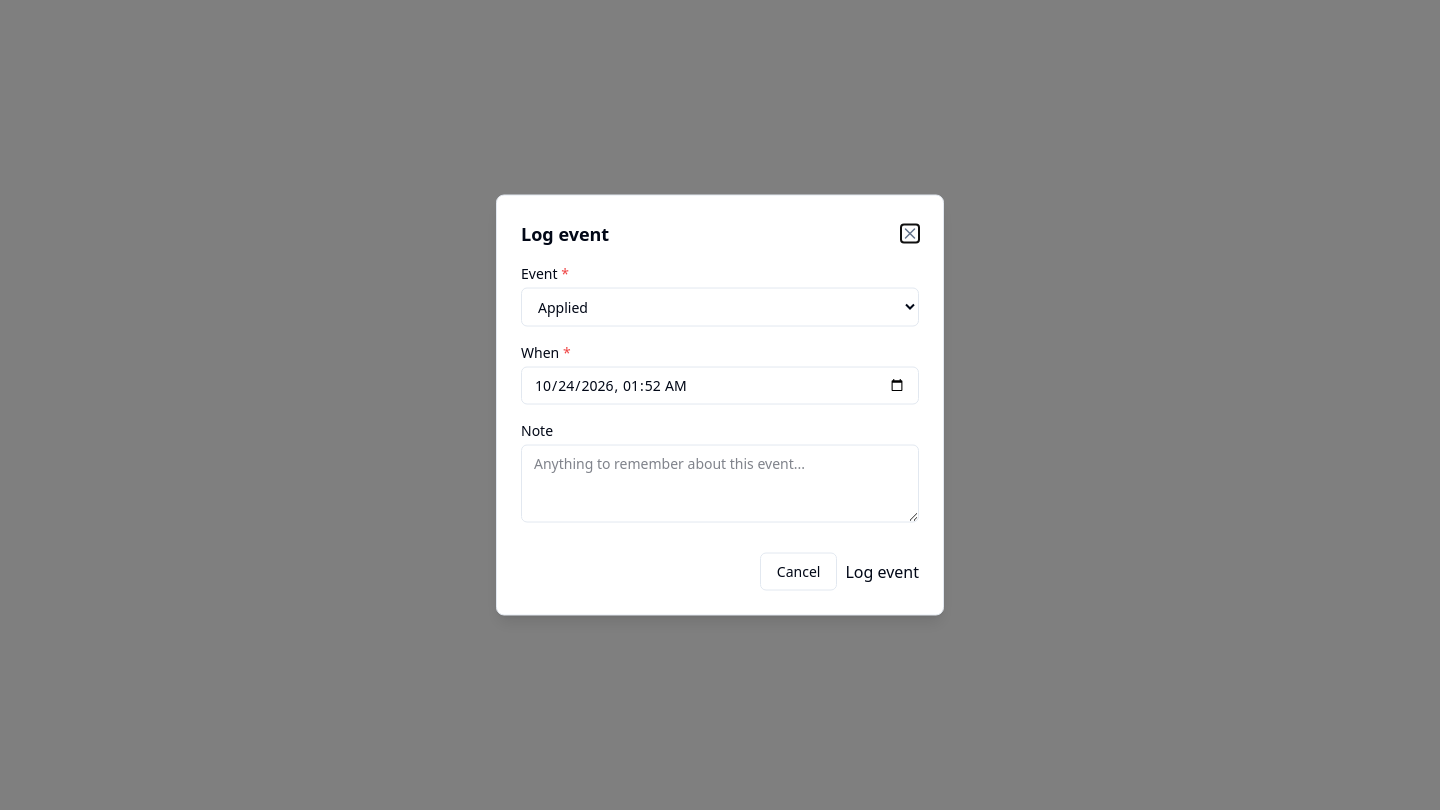
Scenario: LogEventDialog — interview_details › rejects a duration outside the 1..1440 range
Select "Interview completed" in the dropdown labelled "Event *" at (720, 307), box left=521, top=288, right=919, bottom=326
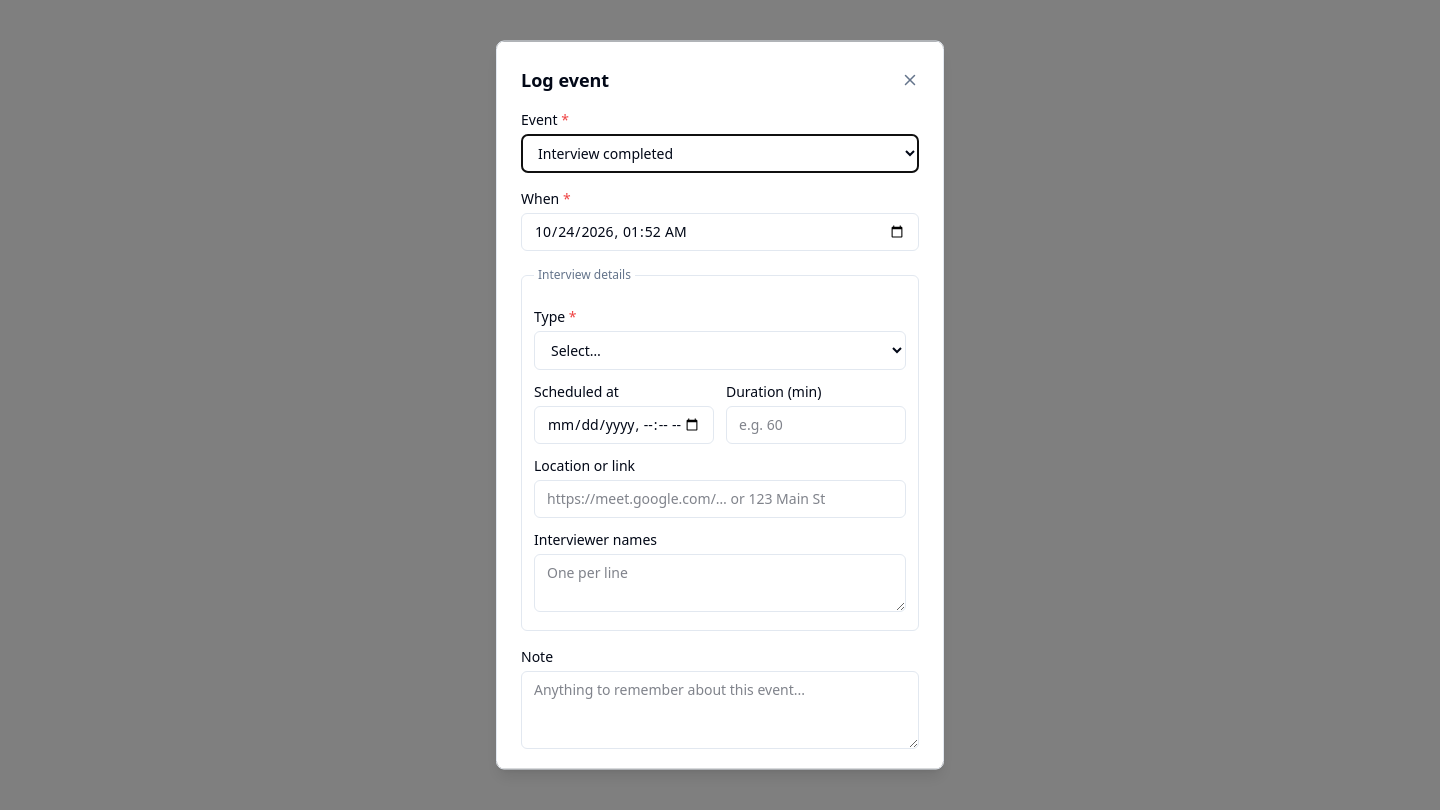
Select "On-site" in the dropdown labelled "Type *" at (720, 350), box left=534, top=330, right=906, bottom=370
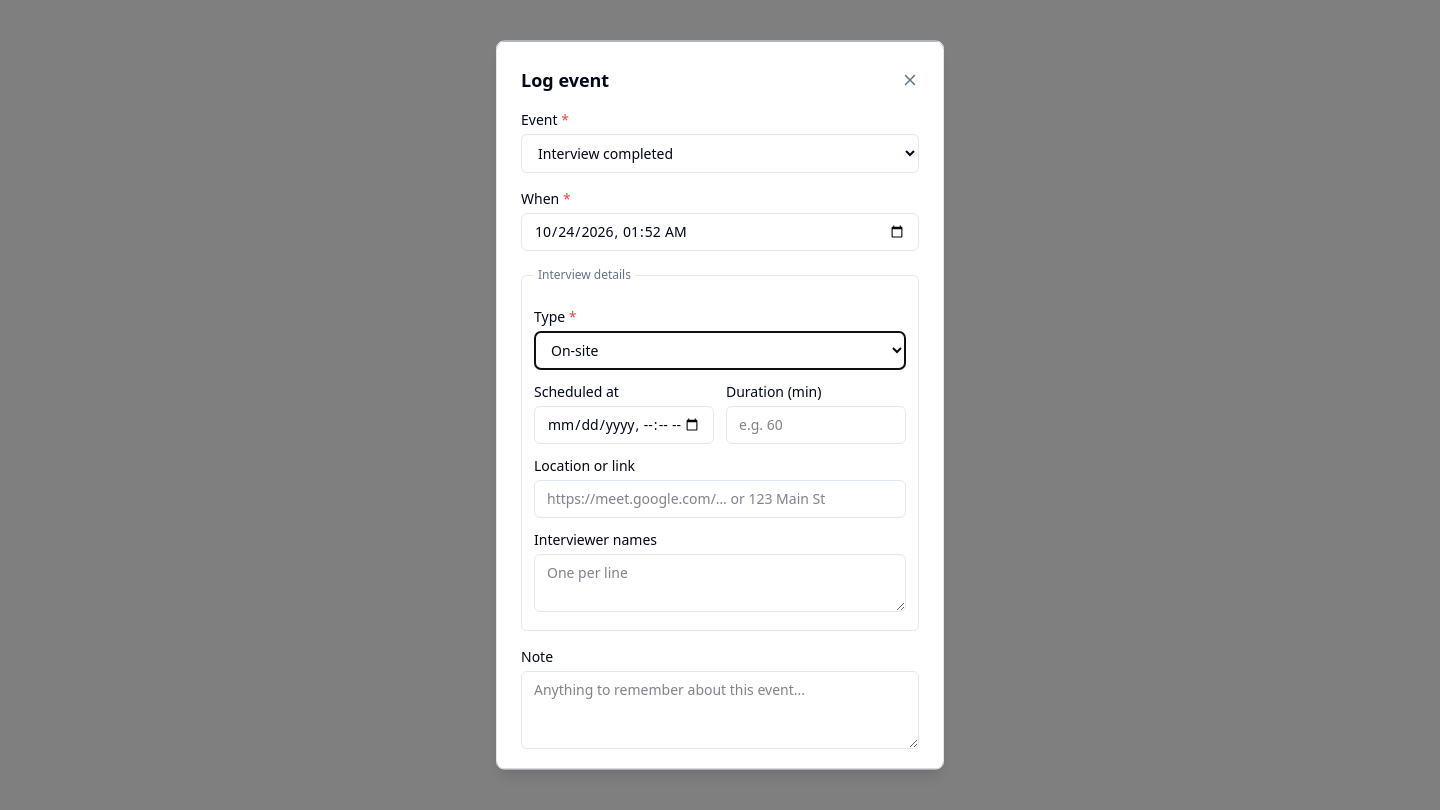
Type "9999" into the number field labelled "Duration (min)" at (816, 424), box left=726, top=406, right=906, bottom=444
(page scrolled)
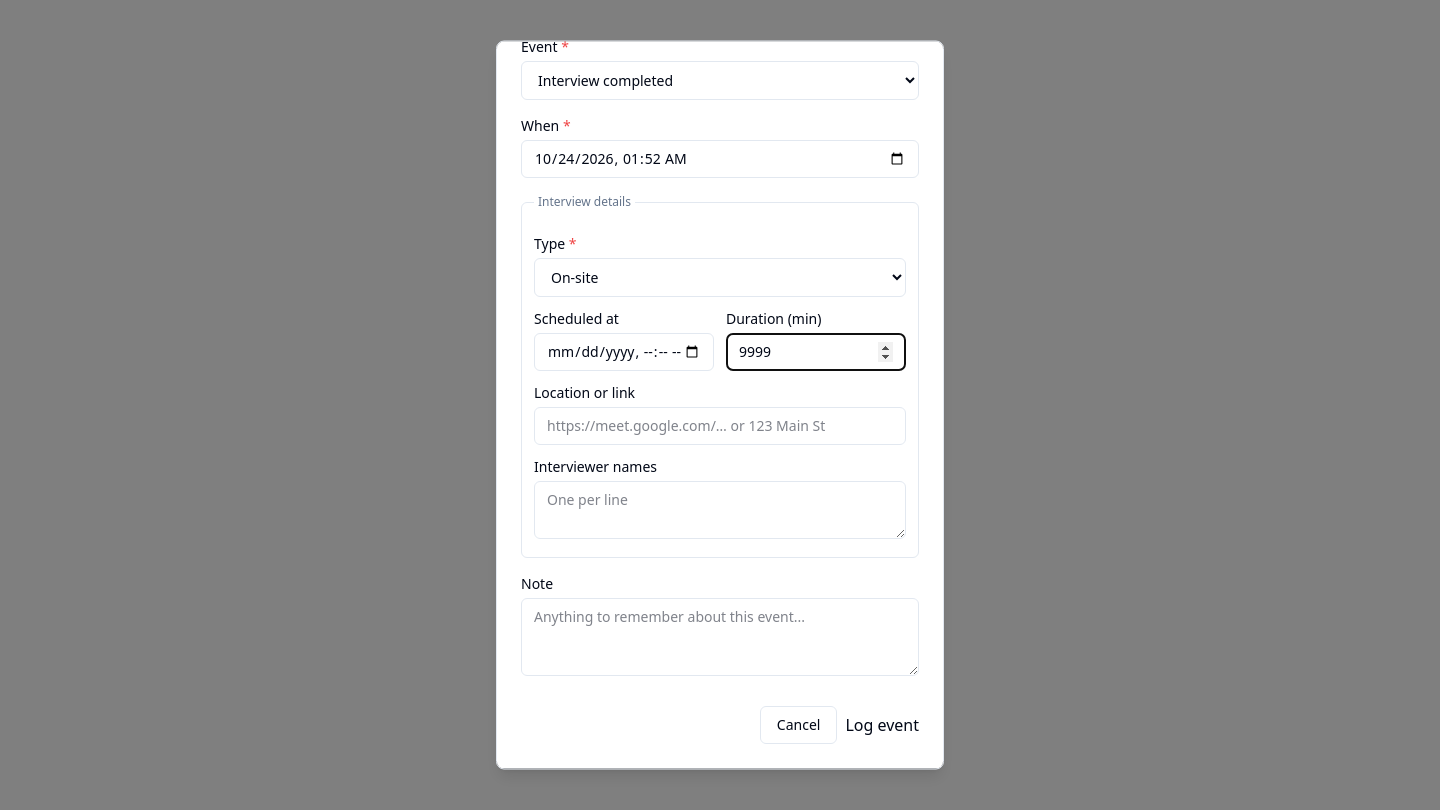
Click the button "Log event" at (882, 726), box left=845, top=706, right=919, bottom=744
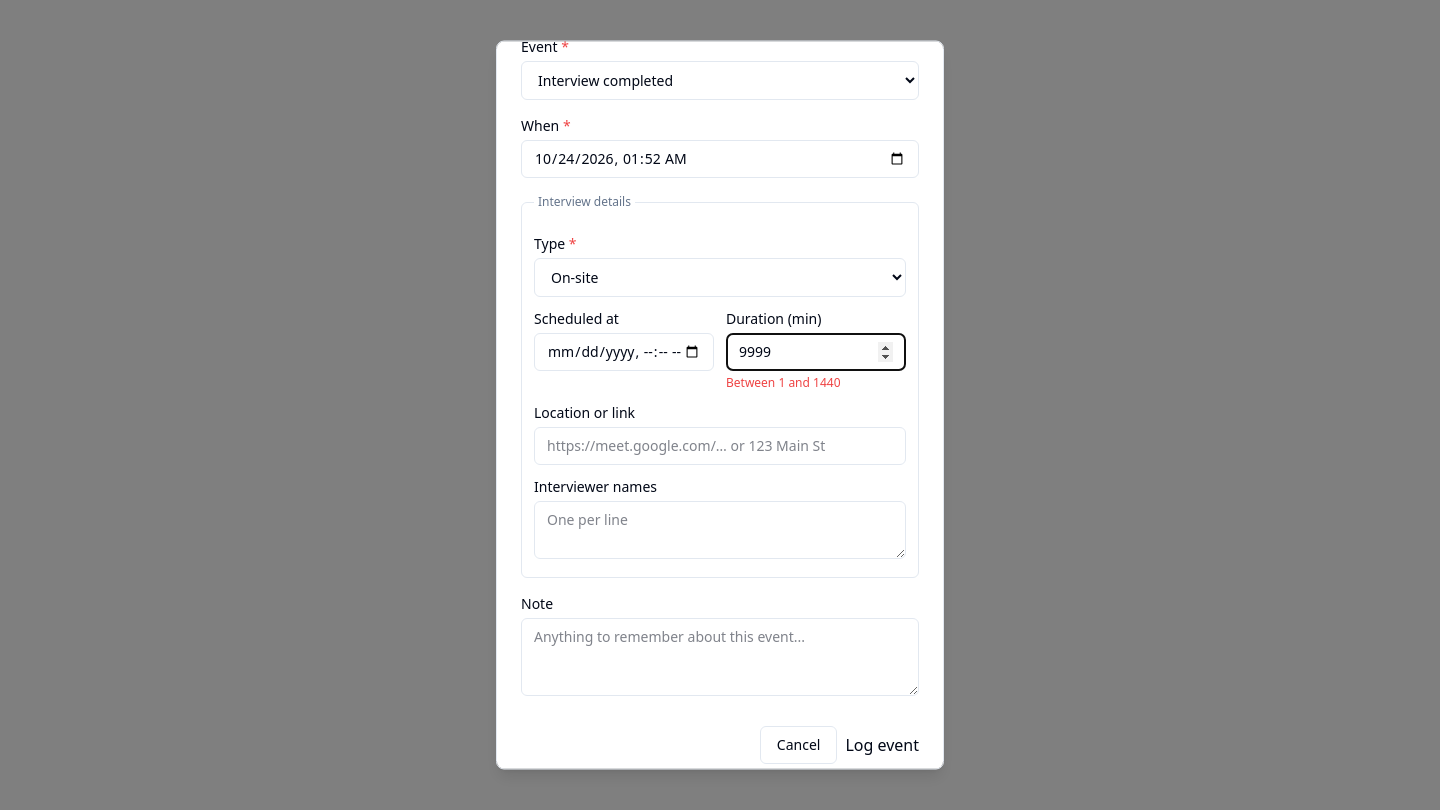
Check: the text "Between 1 and 1440" is shown, box left=726, top=374, right=840, bottom=392
